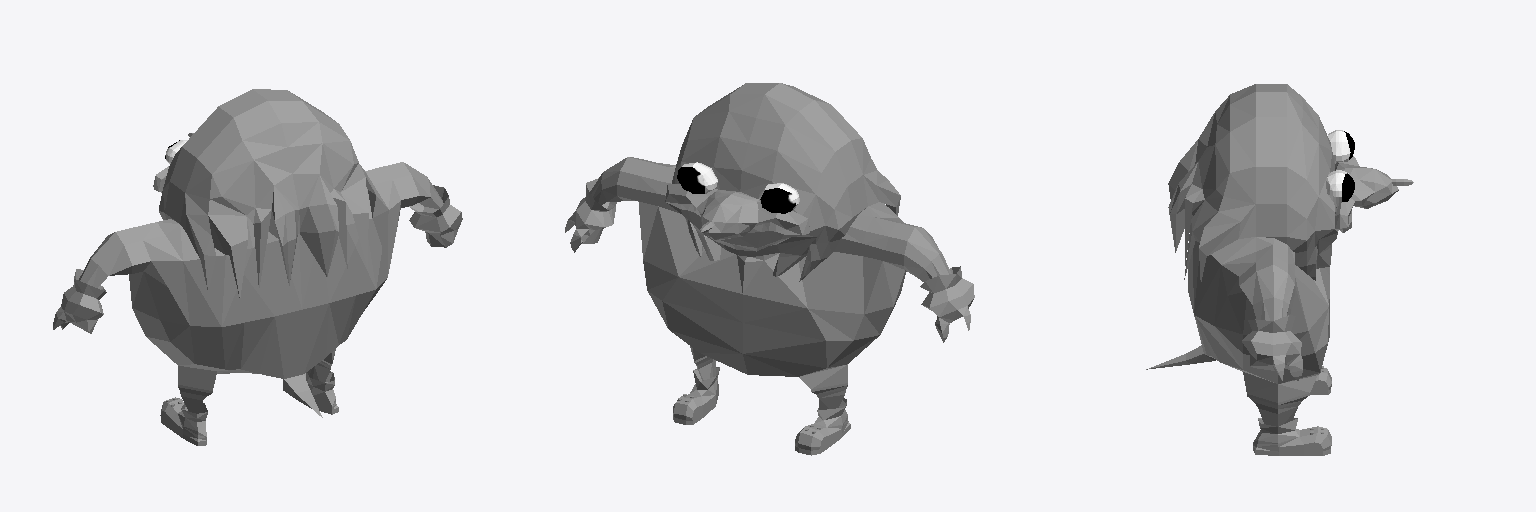
3 views of the same model, side by side, from view 1: azimuth 30°, elevation 25°; view 2: azimuth 150°, elevation 25°; view 3: azimuth 270°, elevation 25° (orthographic).
Parts seen in each view (by area): view 1: Plane; view 2: Plane; view 3: Plane.
Part boxes in pixels (bbox=[...]): Plane: bbox=[53, 89, 462, 445]; Plane: bbox=[565, 83, 974, 455]; Plane: bbox=[1146, 84, 1413, 455].
Bounding box in the file's own units: 1.49 × 1.16 × 0.8581.
2 materials, 1 textured.